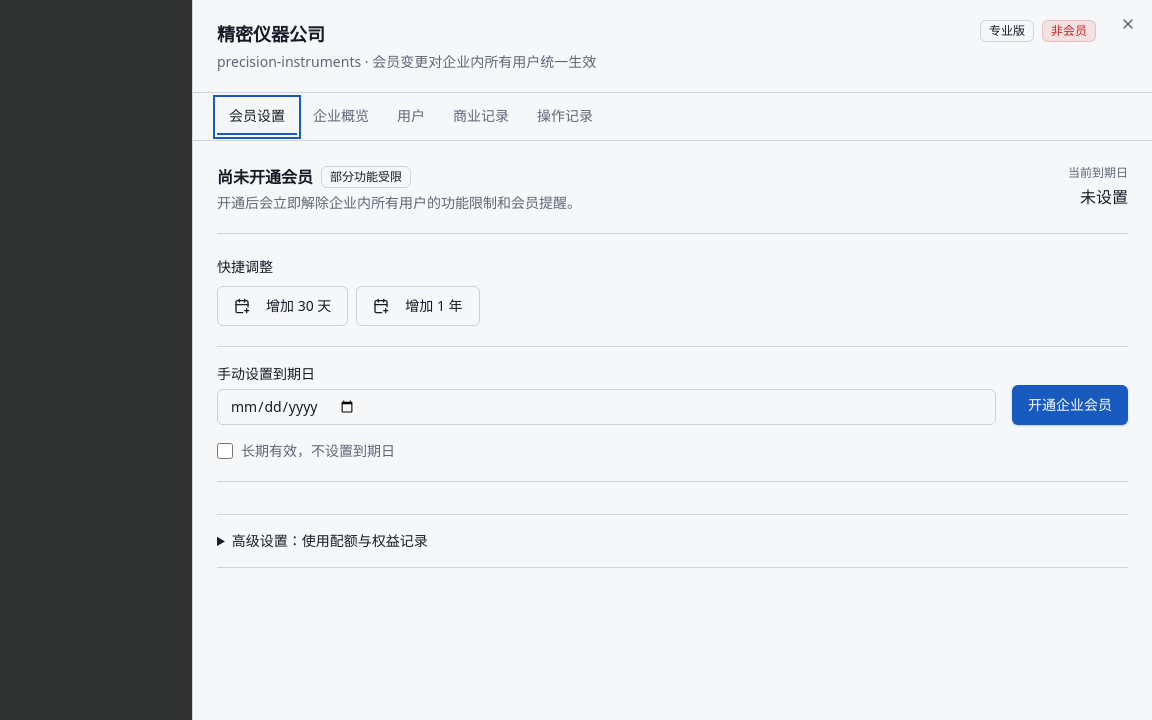
Scenario: Organization360Sheet › 保持拆分前的会员、商业、用户和审计视图入口
The image size is (1152, 720).
Check: the heading "精密仪器公司" is shown, box [217, 22, 325, 46]
Check: the tab "会员设置" is shown, box [217, 98, 297, 134]
Press the mouse on the tab "商业记录" at (481, 116), box [441, 98, 521, 134]
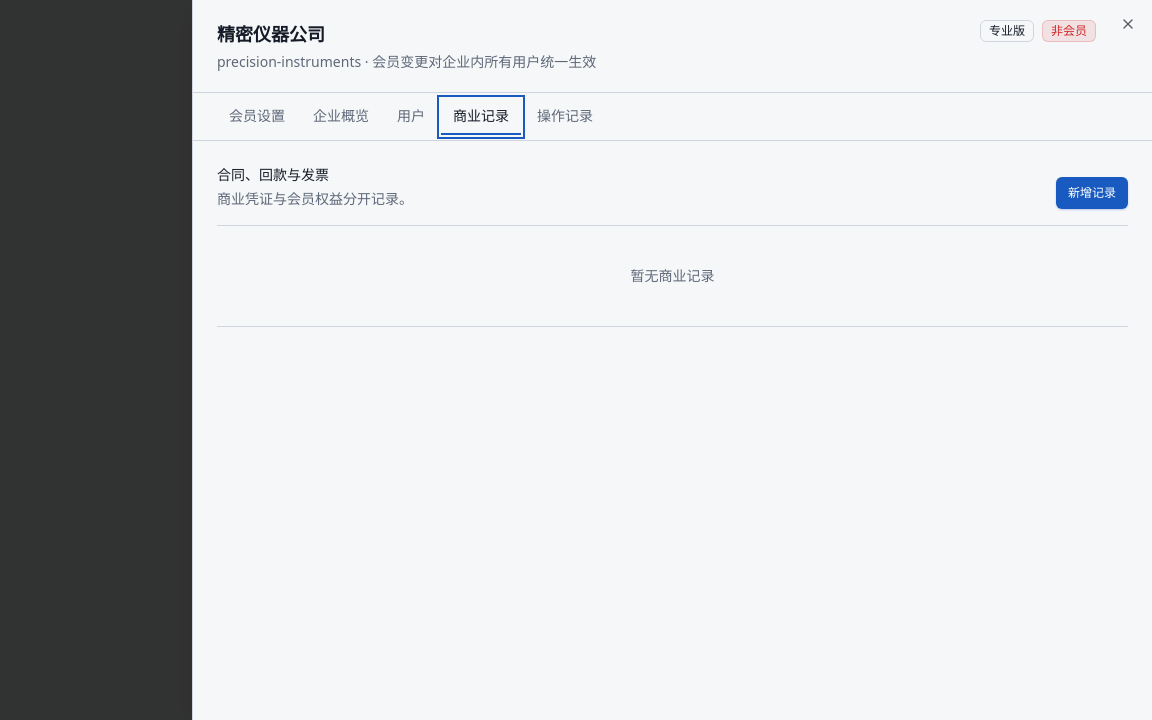
Check: the heading "合同、回款与发票" is shown, box [217, 165, 329, 184]
Press the mouse on the tab "用户" at (411, 116), box [385, 98, 437, 134]
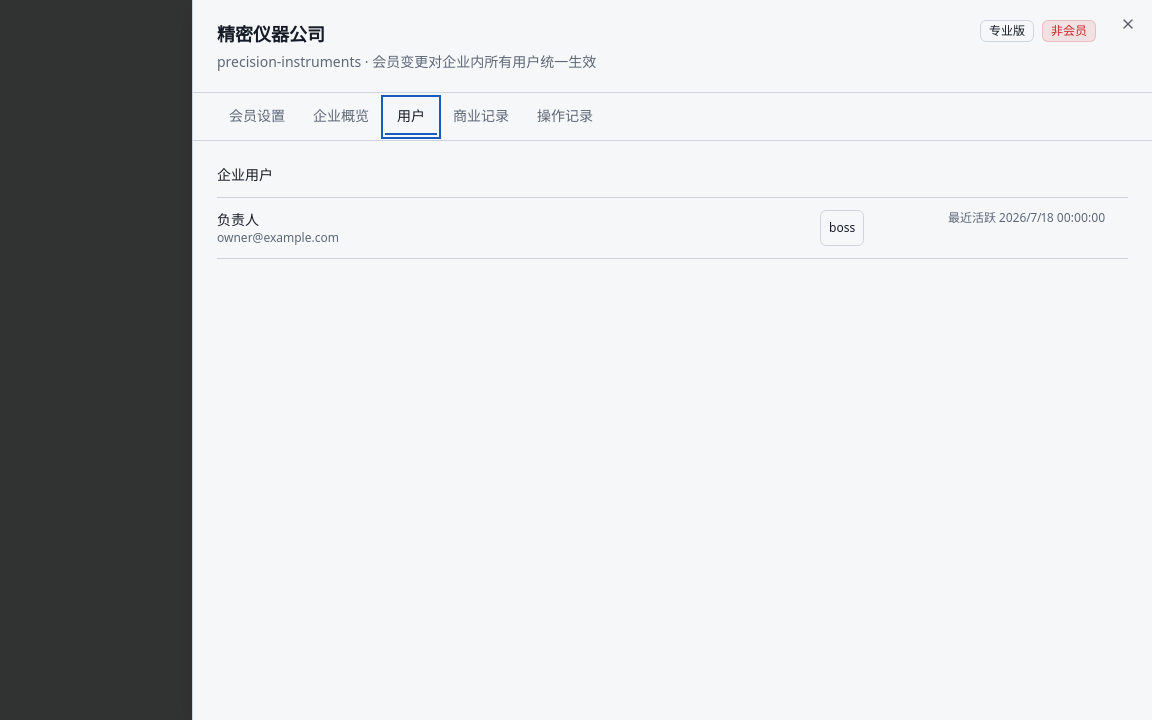
Check: the text "owner@example.com" is shown, box [217, 229, 339, 246]
Press the mouse on the tab "操作记录" at (565, 116), box [525, 98, 605, 134]
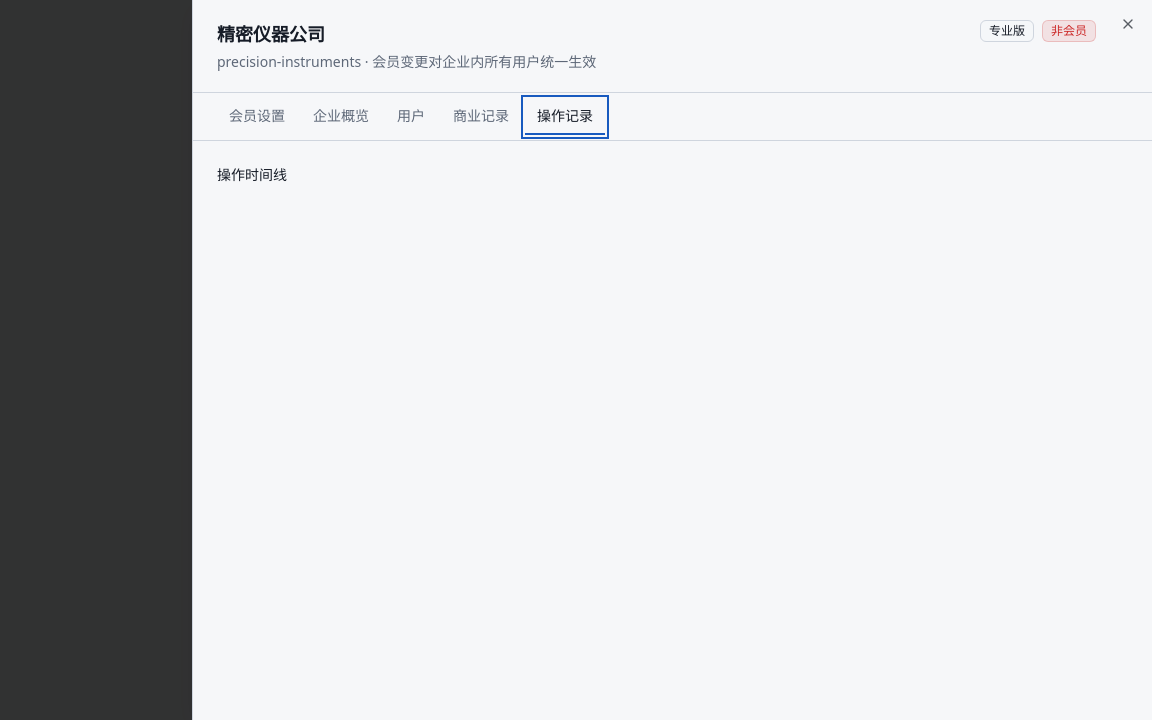
Check: the heading "操作时间线" is shown, box [217, 165, 287, 184]
